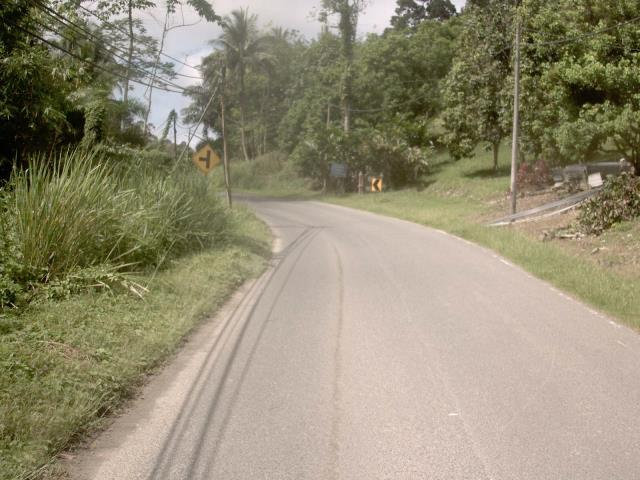traffic_sign: (186, 138, 226, 178)
